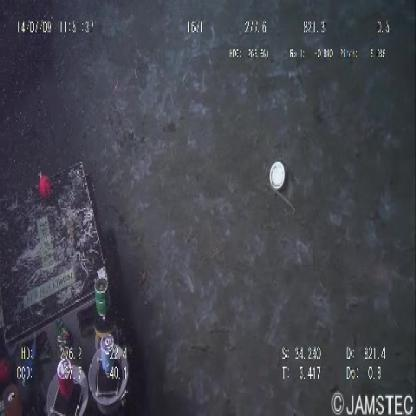Rác: (269, 160, 287, 192)
